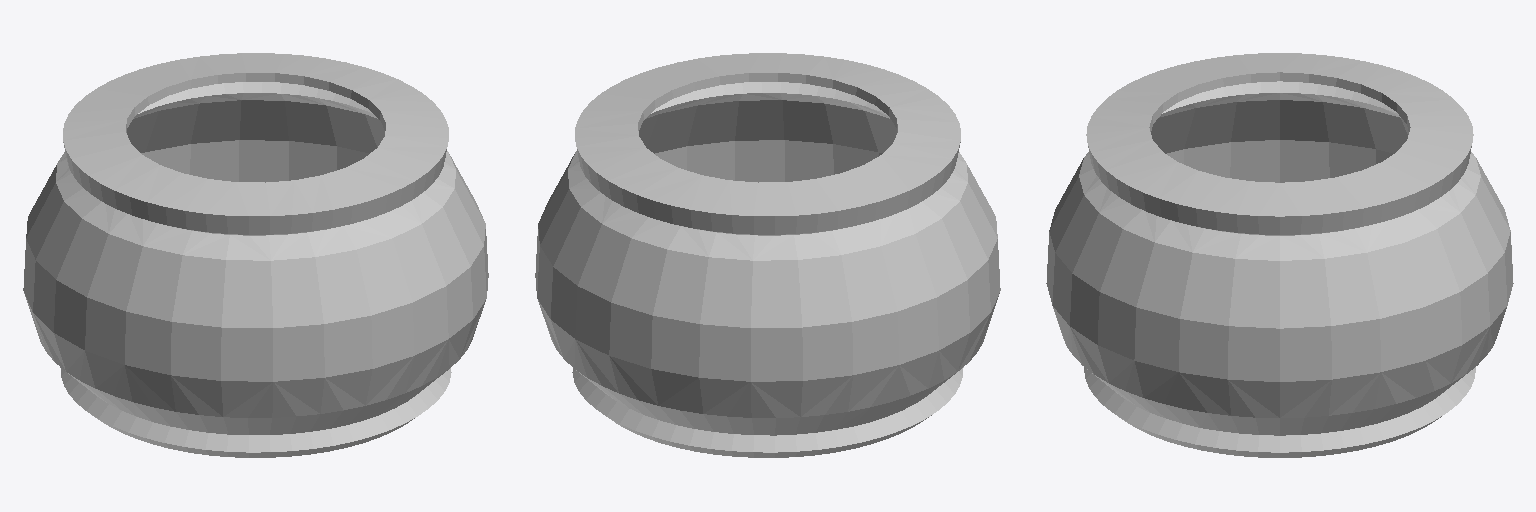
The model's file is Fish for sketch fab.obj.
3 views of the same model, side by side, from view 1: azimuth 30°, elevation 25°; view 2: azimuth 150°, elevation 25°; view 3: azimuth 270°, elevation 25° (orthographic).
Parts seen in each view (by area): view 1: Bowl; view 2: Bowl; view 3: Bowl.
Boxes of the visible parts, x1,y1,x2,y2 form: Bowl: [23, 53, 488, 457]; Bowl: [535, 53, 1000, 457]; Bowl: [1046, 53, 1513, 457].
Bounding box in the file's own units: 16.44 × 9.98 × 16.44.